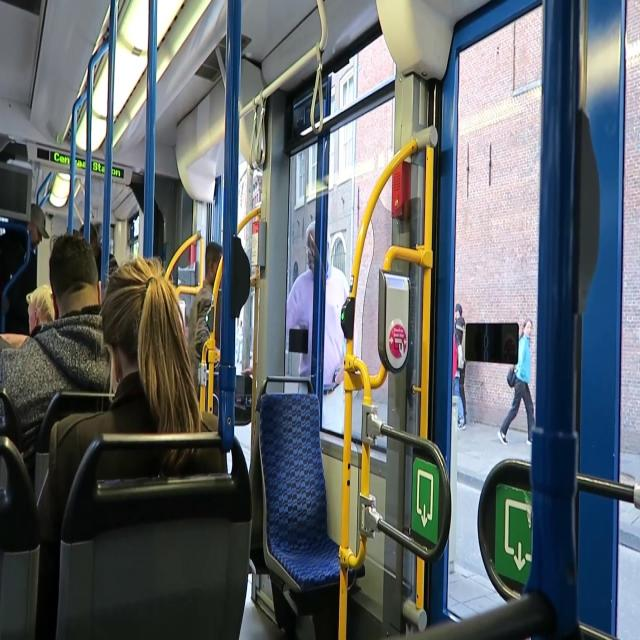empty-seat-frontal: (256, 372, 361, 594)
